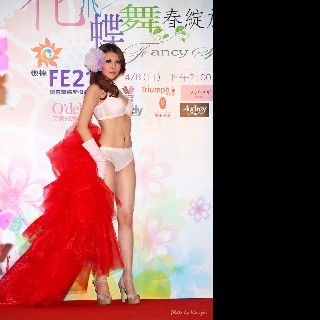without_mask: (101, 51, 122, 79)
